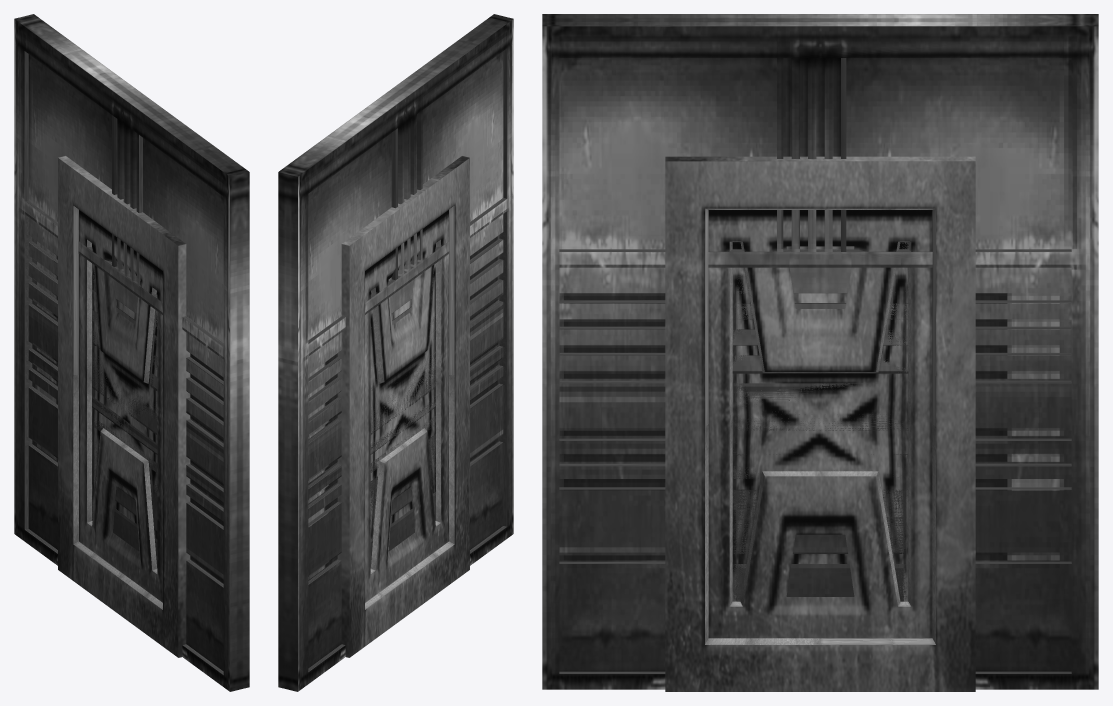
Rendered from doors.FBX.
3 views of the same model, side by side, from view 1: azimuth 30°, elevation 25°; view 2: azimuth 150°, elevation 25°; view 3: azimuth 270°, elevation 25° (orthographic). The views are drawn at different scales.
Parts seen in each view (by area): view 1: door, door2; view 2: door, door2; view 3: door, door2.
Boxes of the visible parts, x1,y1,x2,y2 form: door: (14,14,249,691); door2: (58,156,190,657); door: (278,14,513,691); door2: (337,156,469,657); door: (542,14,1098,689); door2: (665,156,975,691).
Bounding box in the file's own units: 14 × 190 × 250.
